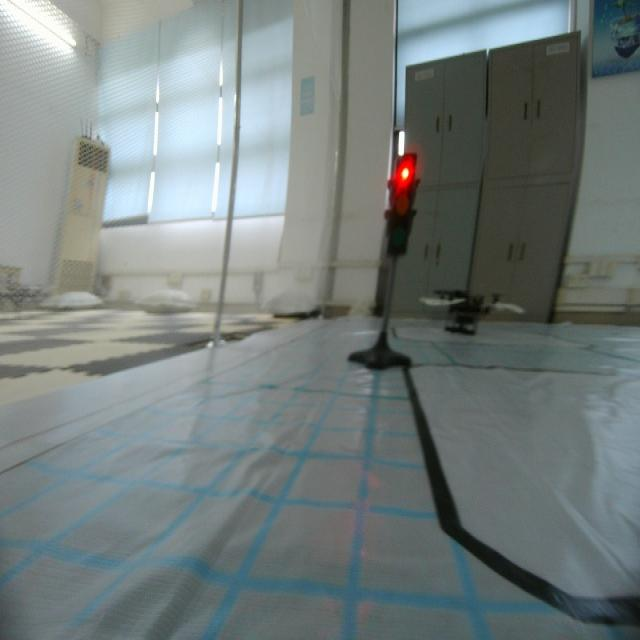red: (382, 148, 420, 263)
